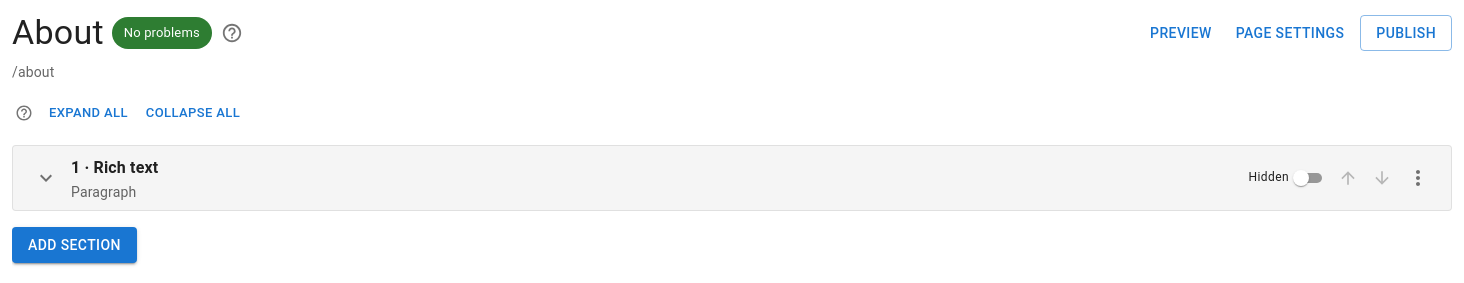
it: PageEditor autosave › patches exactly once for one edit and stays quiet after the refetch
Step 1. Click the switch → (1301, 178), box [1293,170,1309,186]
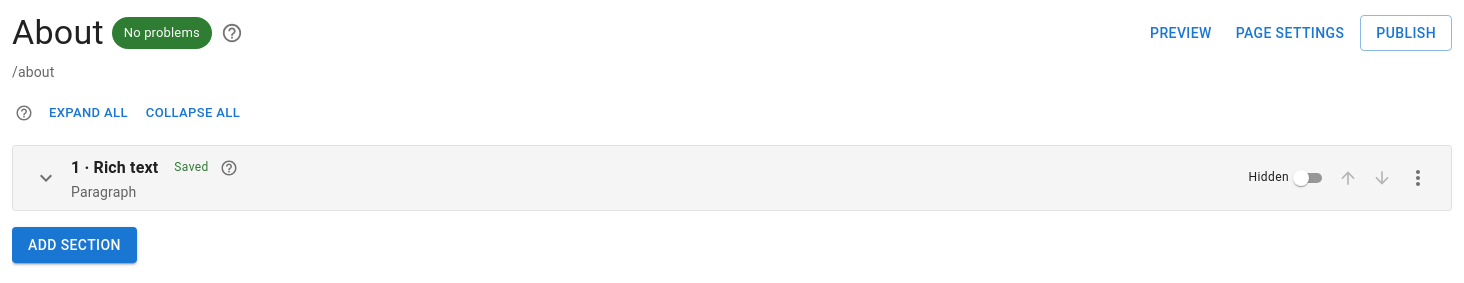
Now the button with test id "help-pages.editor.autosave" is shown, box [217,156,241,180]
